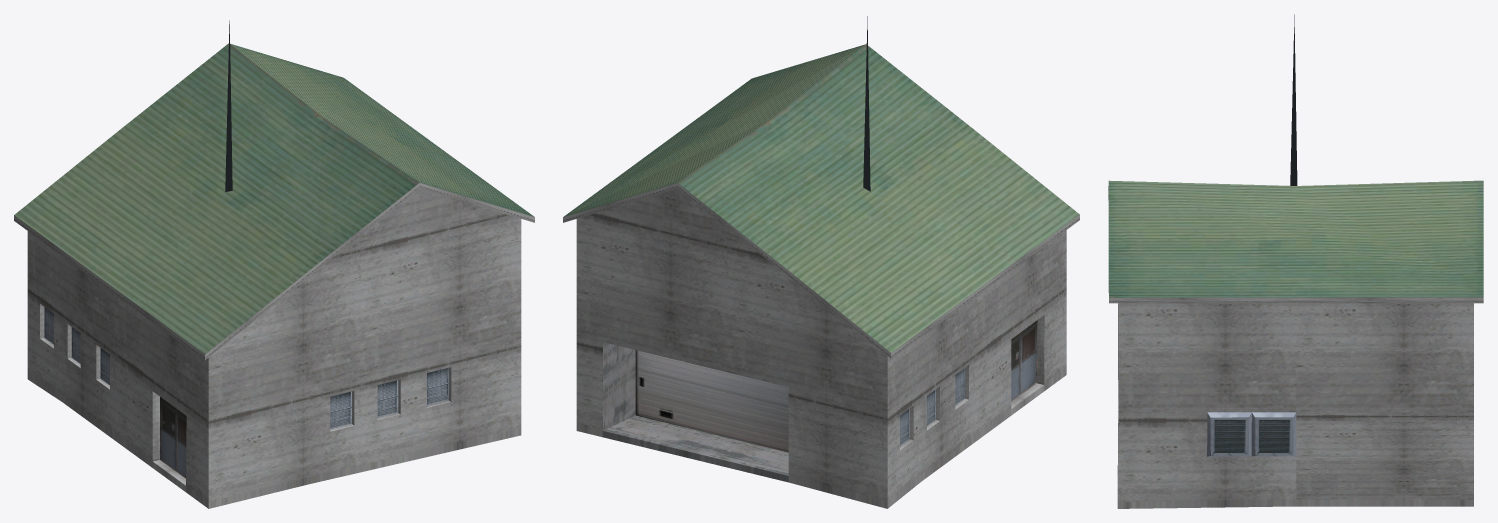
File: hrbrmstr_sfn01.obj
3 views of the same model, side by side, from view 1: azimuth 30°, elevation 25°; view 2: azimuth 150°, elevation 25°; view 3: azimuth 270°, elevation 25° (orthographic).
Visible parts, largest first — view 1: hrbrmstr_SFN01; view 2: hrbrmstr_SFN01; view 3: hrbrmstr_SFN01.
Part boxes in pixels (x1,y1,x2,y2): hrbrmstr_SFN01: [14, 20, 534, 508]; hrbrmstr_SFN01: [563, 16, 1079, 508]; hrbrmstr_SFN01: [1108, 14, 1483, 508].
Size of the model in its own units: 11.62 by 13.59 by 11.62.
6 materials, 6 textured.
